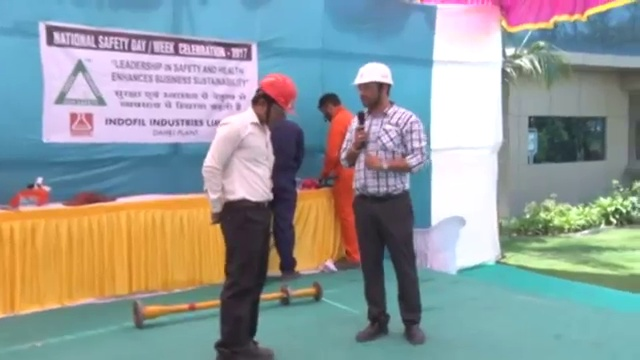helmet: (248, 70, 301, 134), (259, 70, 299, 114), (350, 60, 395, 87)
helmet_off: (315, 90, 345, 121)
helmet_on: (349, 58, 397, 110)
person: (202, 70, 299, 360), (341, 55, 428, 347), (313, 90, 363, 270), (269, 115, 305, 280)
